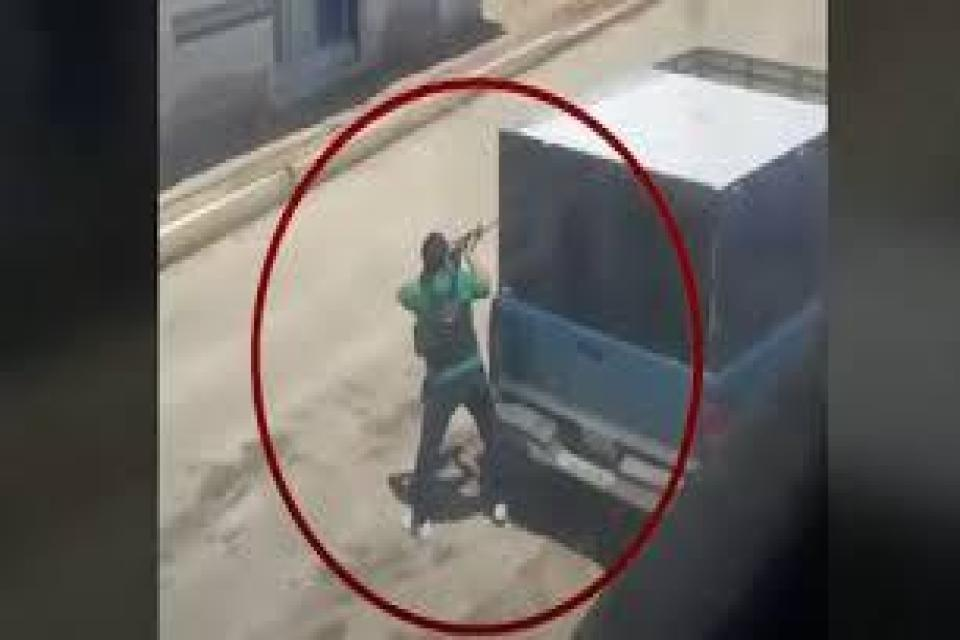non-violence: (388, 209, 512, 543)
weapon: (436, 214, 502, 272)
